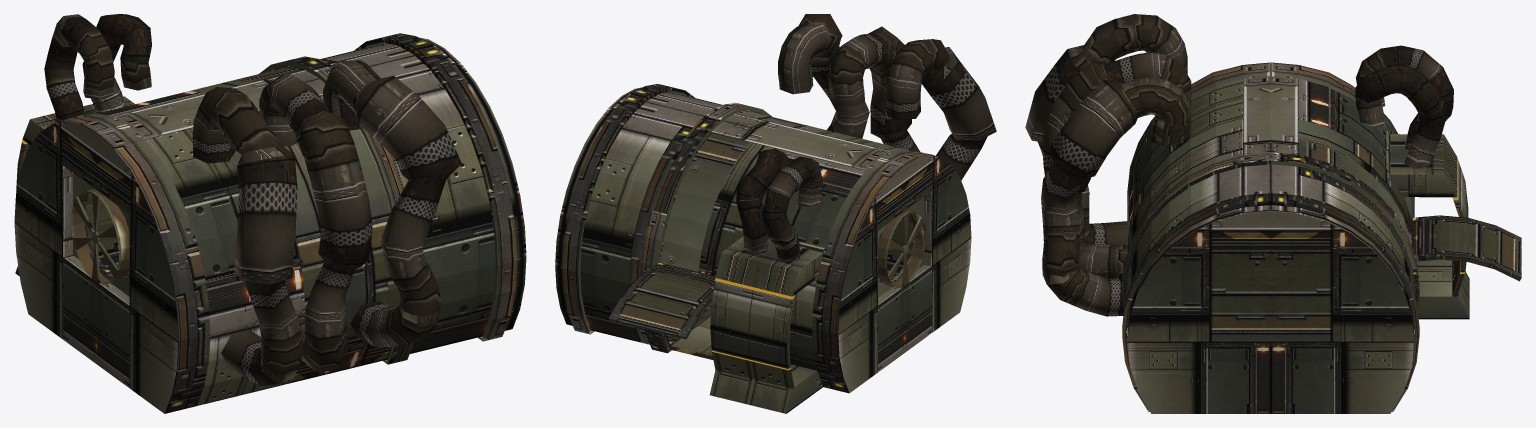
File: Full_Lab_Ani.glb
3 views of the same model, side by side, from view 1: azimuth 30°, elevation 25°; view 2: azimuth 150°, elevation 25°; view 3: azimuth 270°, elevation 25° (orthographic). The views are drawn at different scales.
Visible parts, largest first — view 1: Main_Building; view 2: Main_Building; view 3: Main_Building.
Part boxes in pixels (<box>): Main_Building: <box>14,14,526,413</box>; Main_Building: <box>555,14,996,413</box>; Main_Building: <box>1025,14,1521,413</box>.
Size of what is drawn, in the model's own units: 21.69 by 18.81 by 30.39.
Materials: 4 (3 with a texture image).
